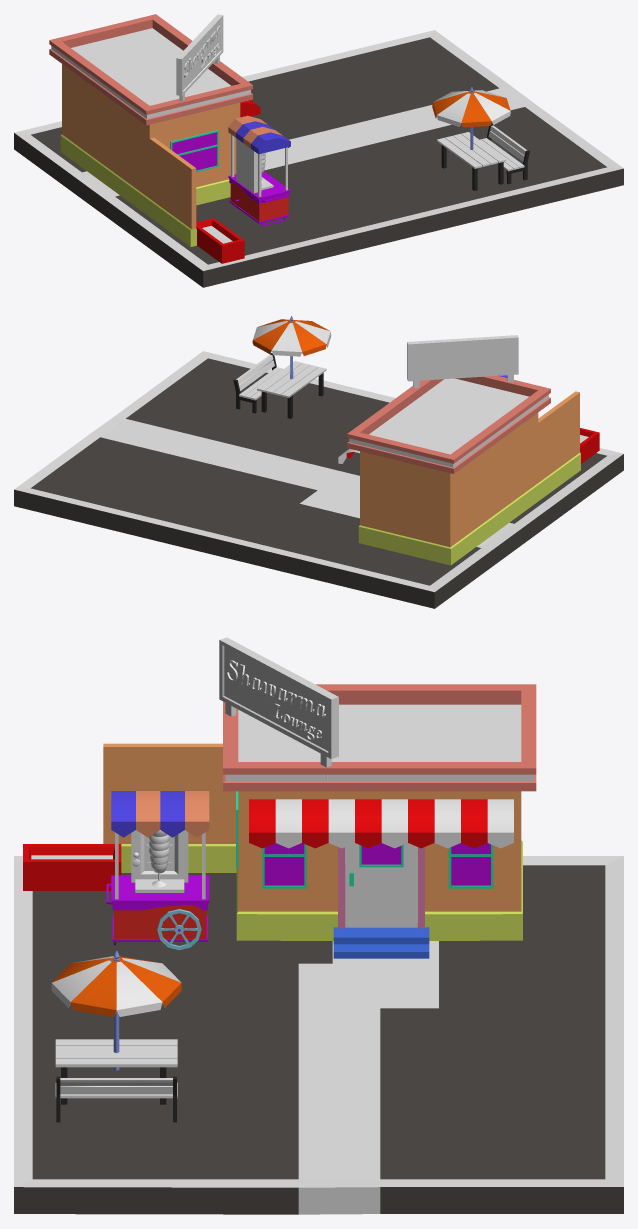
File: Out_door_building.fbx
The picture shows the model from 3 angles, top to bottom: view 1: azimuth 30°, elevation 25°; view 2: azimuth 150°, elevation 25°; view 3: azimuth 270°, elevation 25°; orthographic projection. The views are drawn at different scales.
Visible parts, largest first — view 1: Cube.006, Cube.007, Cube.009, SM_Props_City_Beach_Umbrella_02, SM_Bldg_City_AmusementPark_Cart_01, SM_Bldg_City_AmusementPark_Cart_01.001, Cube.011, SM_Props_City_Beach_Chair_04.001, Cube, Cube.004, Cube.005, pCube2.001; view 2: Cube.006, Cube.007, Cube.011, Cube.009, SM_Props_City_Beach_Umbrella_02, SM_Props_City_Beach_Chair_04.001, Cube.005, Cube; view 3: Cube.006, Cube.007, Plane, Cube.009, Cube.011, SM_Props_City_Beach_Umbrella_02, SM_Bldg_City_AmusementPark_Cart_01, SM_Bldg_City_AmusementPark_Cart_01.001, Cube, SM_Props_City_Beach_Chair_04.001, Cube.008, Cube.005 (+5 smaller).
Boxes of the visible parts, x1,y1,x2,y2 form: Cube.006: (14, 30, 623, 287); Cube.007: (49, 14, 252, 215); Cube.009: (148, 137, 196, 246); SM_Props_City_Beach_Umbrella_02: (432, 87, 510, 149); SM_Bldg_City_AmusementPark_Cart_01: (228, 171, 290, 226); SM_Bldg_City_AmusementPark_Cart_01.001: (228, 115, 290, 196); Cube.011: (176, 14, 223, 95); SM_Props_City_Beach_Chair_04.001: (437, 132, 506, 190); Cube: (196, 218, 244, 263); Cube.004: (170, 130, 218, 172); Cube.005: (480, 123, 529, 184); pCube2.001: (236, 138, 273, 193); Cube.006: (14, 351, 623, 608); Cube.007: (347, 376, 550, 565); Cube.011: (407, 335, 518, 381); Cube.009: (537, 391, 580, 500); SM_Props_City_Beach_Umbrella_02: (252, 316, 331, 379); SM_Props_City_Beach_Chair_04.001: (257, 361, 326, 418); Cube.005: (233, 353, 283, 413); Cube: (580, 428, 599, 463); Cube.006: (14, 856, 623, 1214); Cube.007: (223, 684, 536, 940); Plane: (249, 799, 513, 848); Cube.009: (103, 743, 236, 872); Cube.011: (219, 637, 338, 758); SM_Props_City_Beach_Umbrella_02: (51, 951, 181, 1070); SM_Bldg_City_AmusementPark_Cart_01: (106, 875, 209, 950); SM_Bldg_City_AmusementPark_Cart_01.001: (111, 791, 209, 899); Cube: (23, 844, 121, 890); SM_Props_City_Beach_Chair_04.001: (55, 1039, 177, 1104); Cube.008: (333, 927, 429, 958); Cube.005: (55, 1076, 177, 1122).
Size of the model in its own units: 1629 by 636 by 1269.
